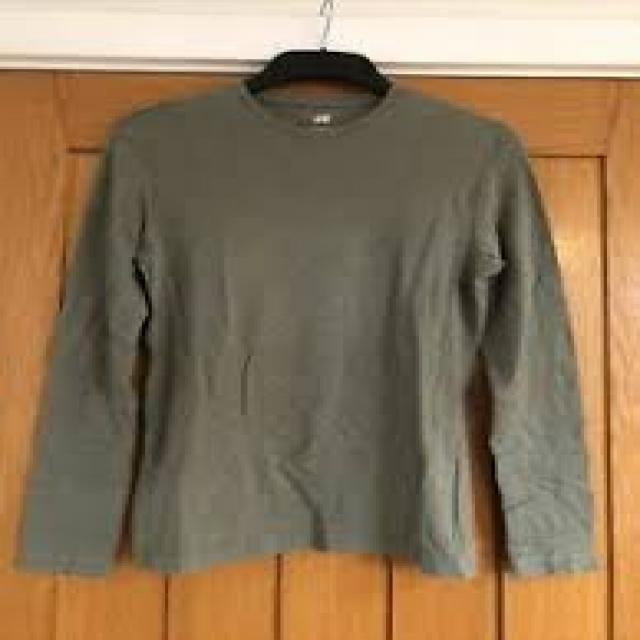plain: (10, 76, 615, 587)
